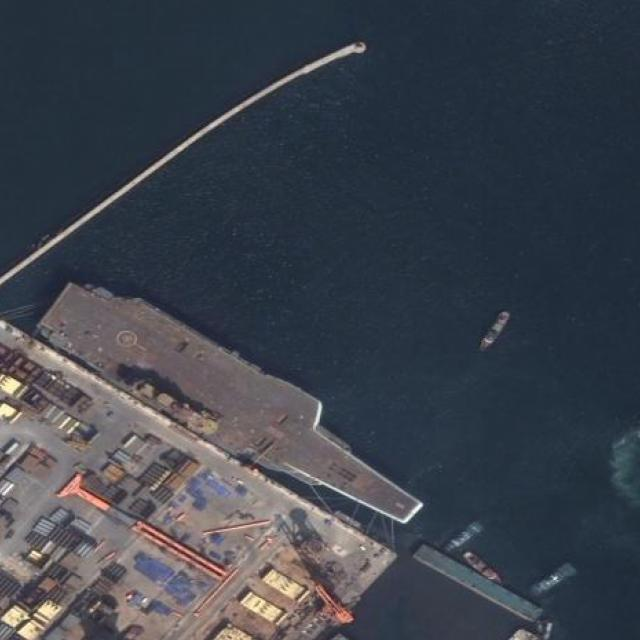Aircraft Carrier: (29, 255, 445, 552)
Other Ship: (475, 306, 515, 354), (459, 549, 499, 584), (527, 568, 567, 598), (440, 526, 476, 557)
